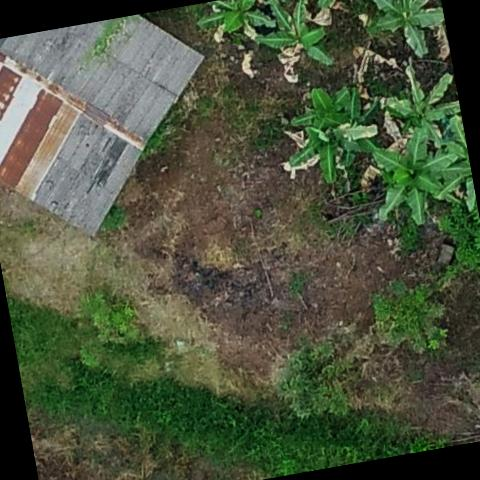Banana-plant: (267, 74, 390, 190), (360, 118, 466, 236), (360, 50, 466, 160), (246, 0, 342, 93), (360, 0, 452, 73), (192, 0, 280, 55)
